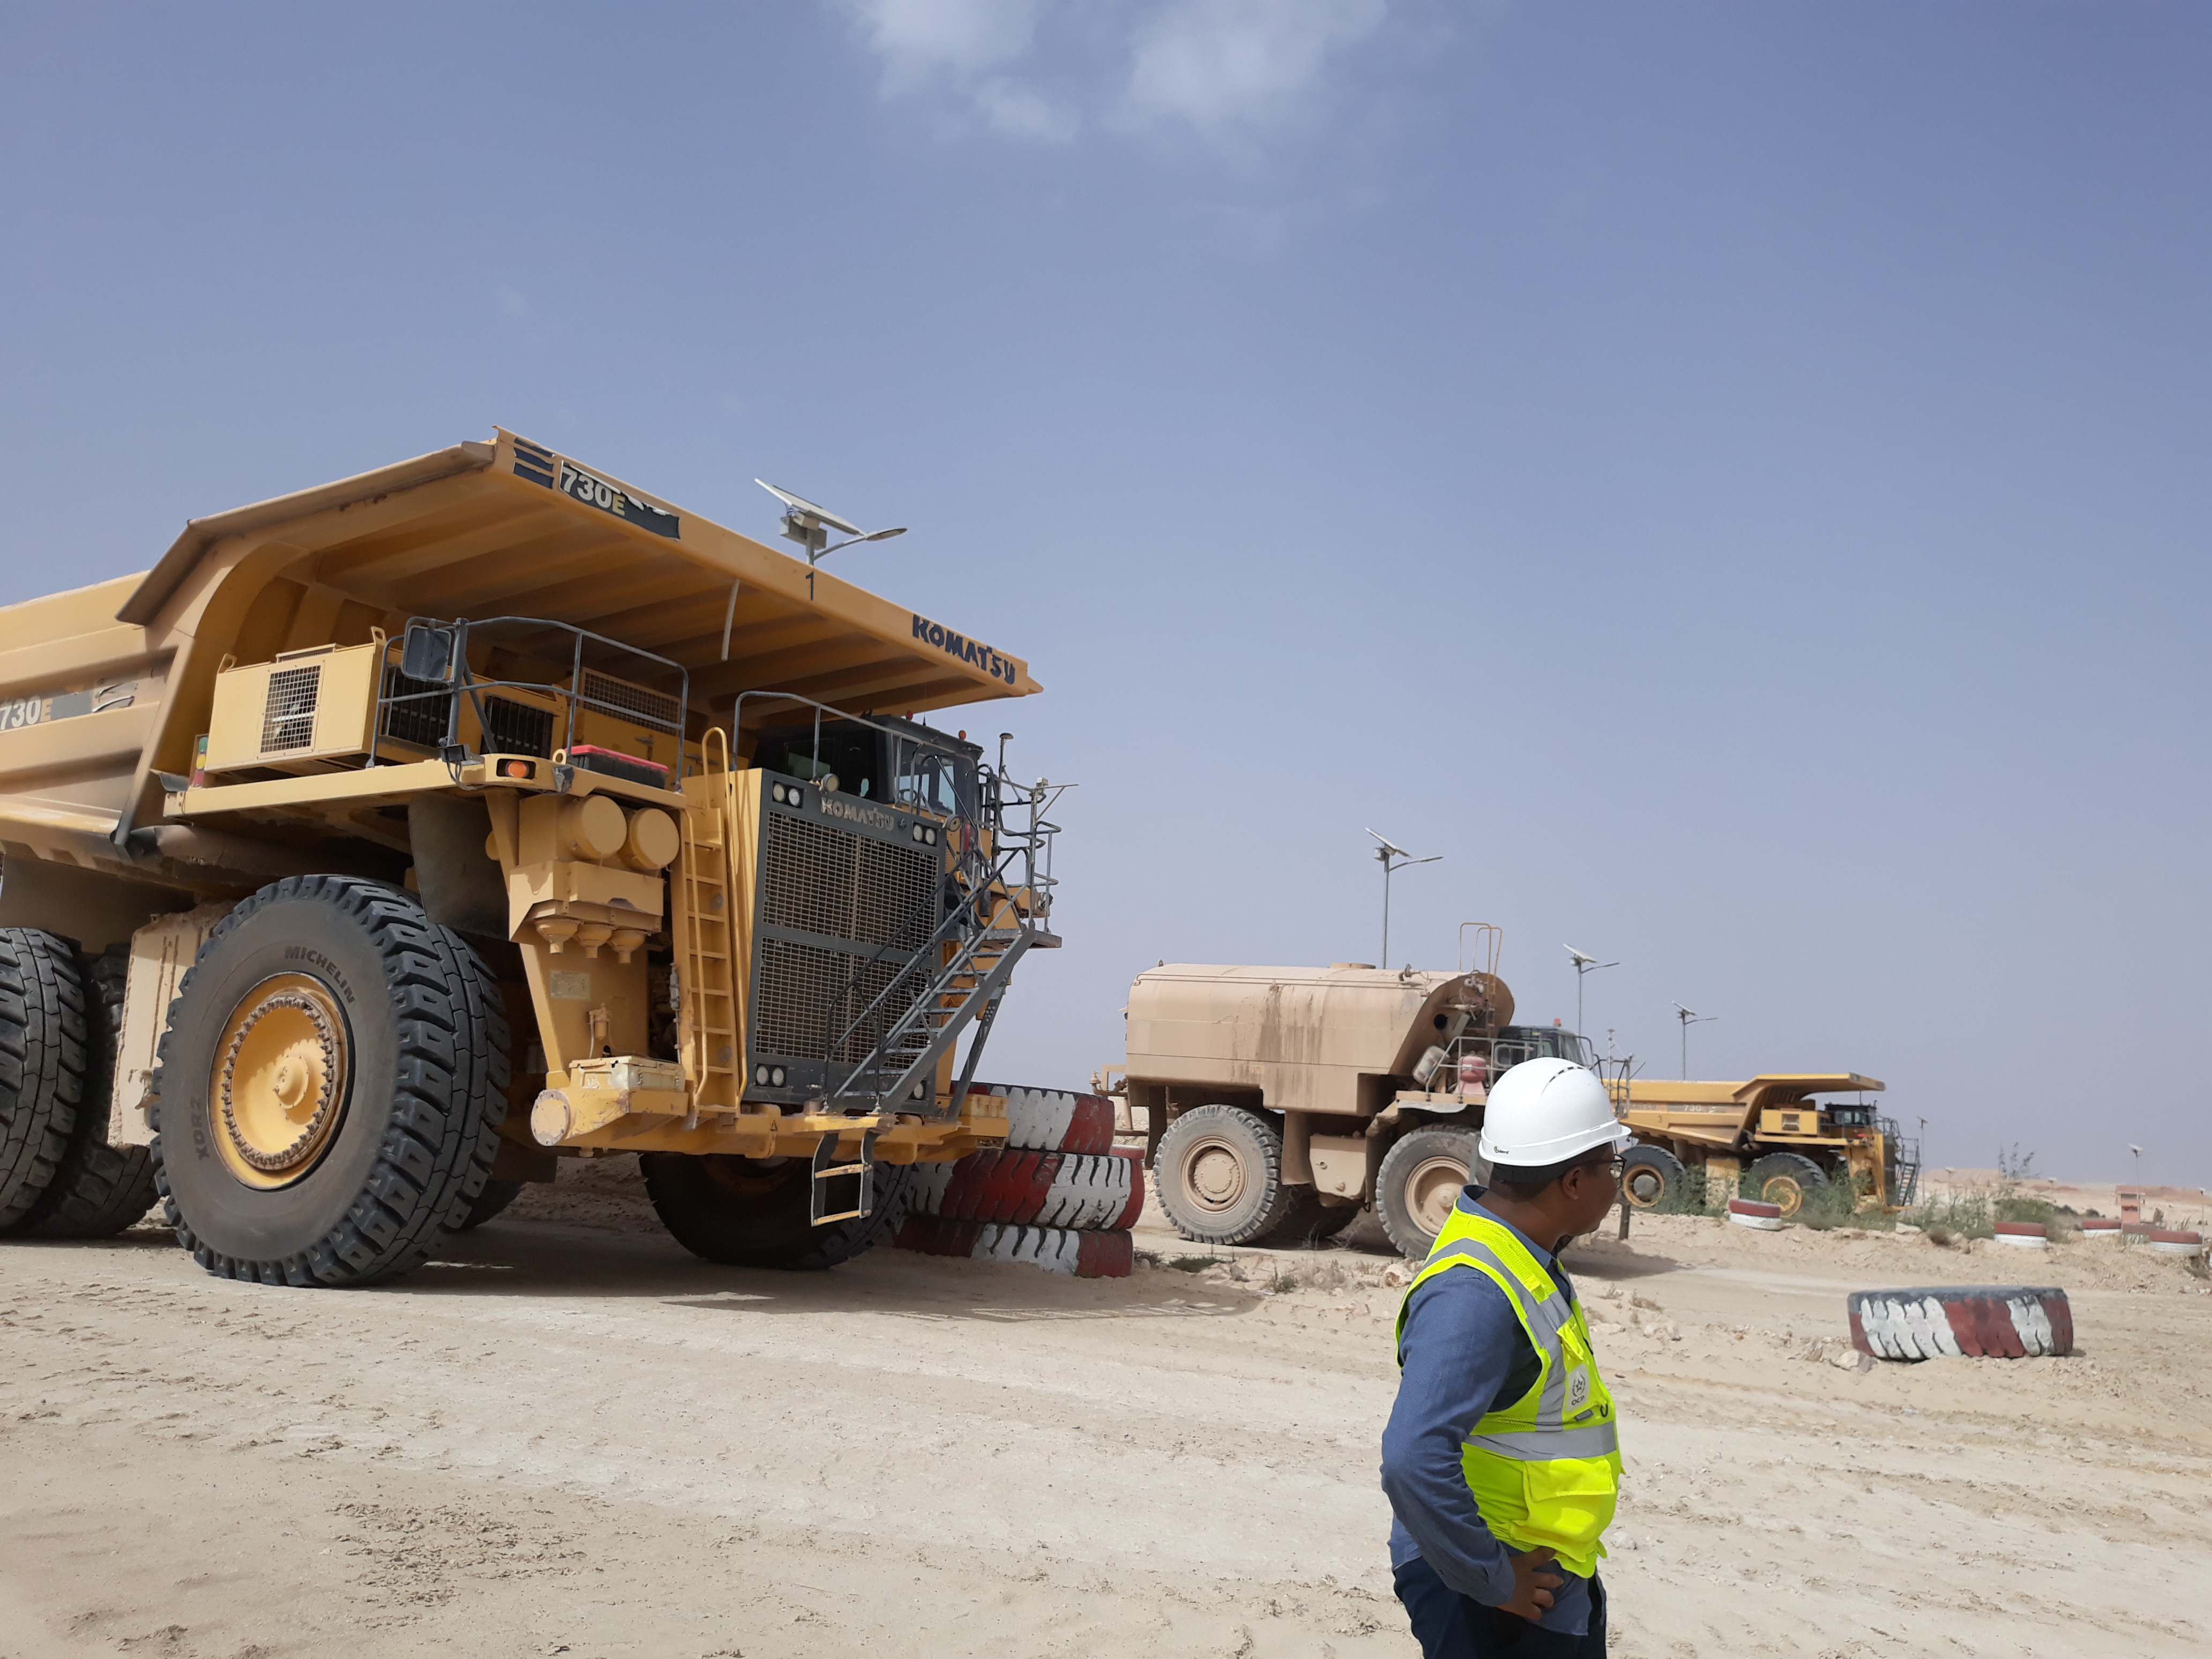camion: (1, 419, 1080, 1296), (1550, 1039, 1939, 1250)
person: (1370, 1041, 1675, 1659)
